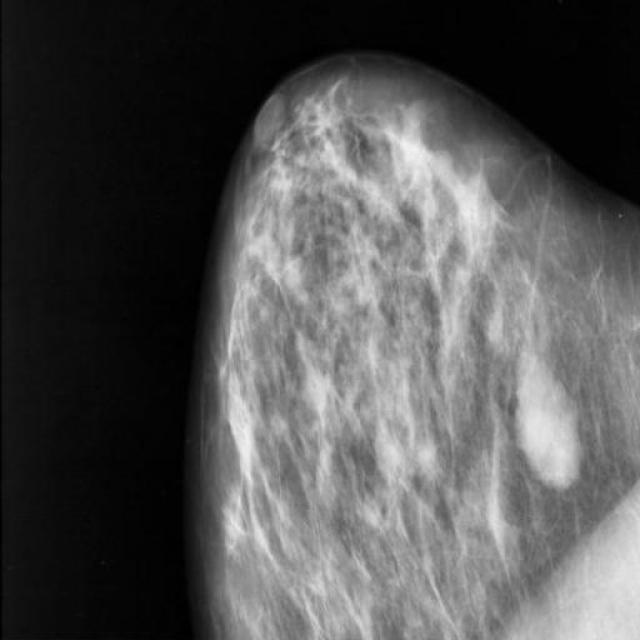cancer: (488, 323, 594, 539)
